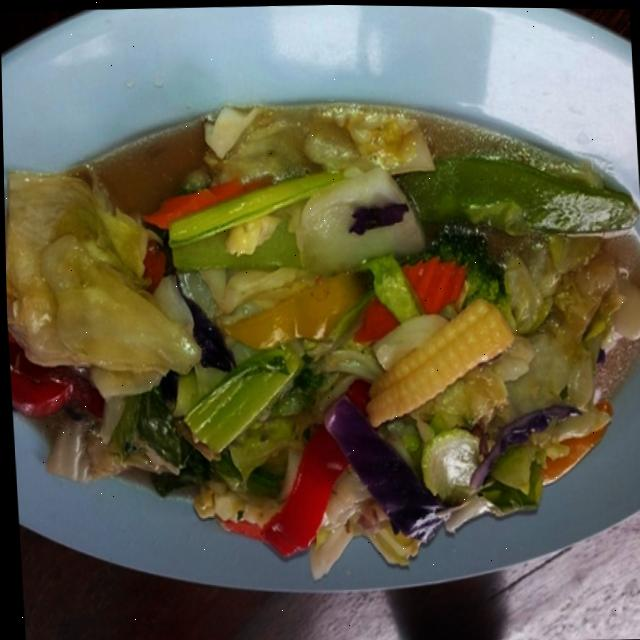蔬菜料理: (3, 34, 640, 586)
